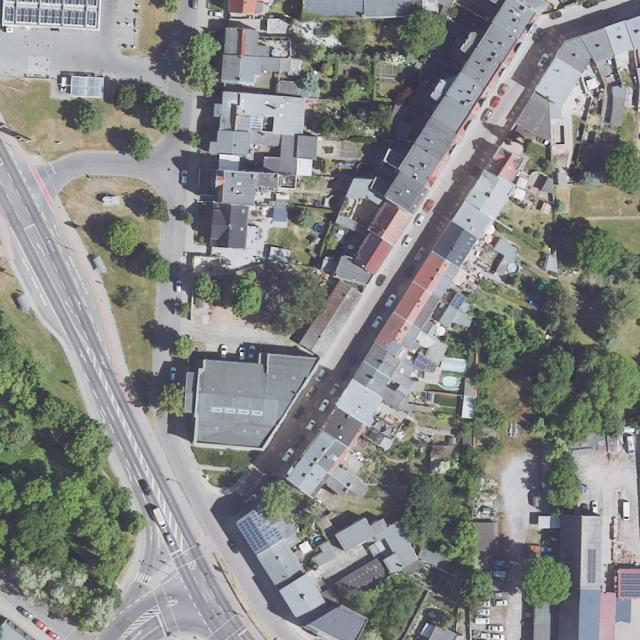PV: (5, 6, 94, 25), (238, 517, 267, 552), (621, 573, 640, 596), (262, 525, 283, 540), (587, 550, 596, 584), (414, 354, 430, 372), (252, 508, 267, 526)
